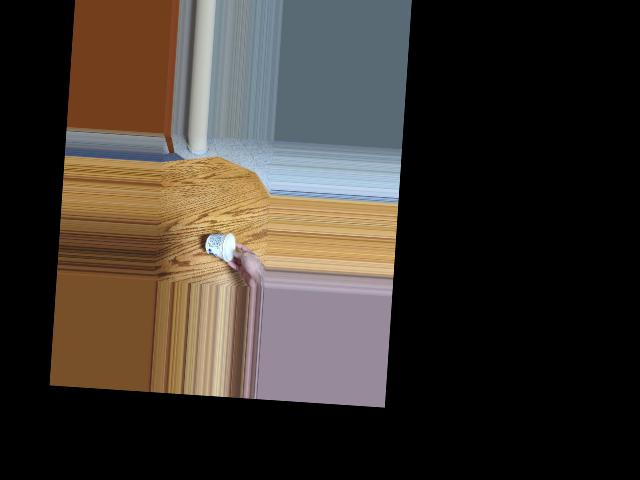cotage: (208, 229, 241, 263)
